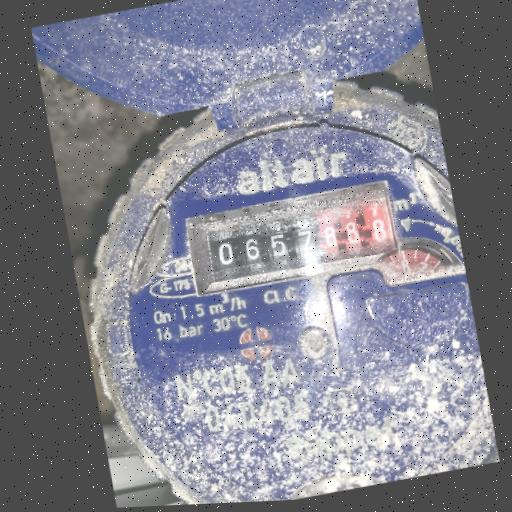0: (212, 227, 239, 271)
5: (262, 216, 292, 263)
6: (237, 222, 265, 266)
7: (288, 211, 318, 258)
8: (360, 196, 391, 246), (337, 203, 365, 251), (315, 207, 343, 253)
border_water_meter_number: (182, 179, 402, 300)
